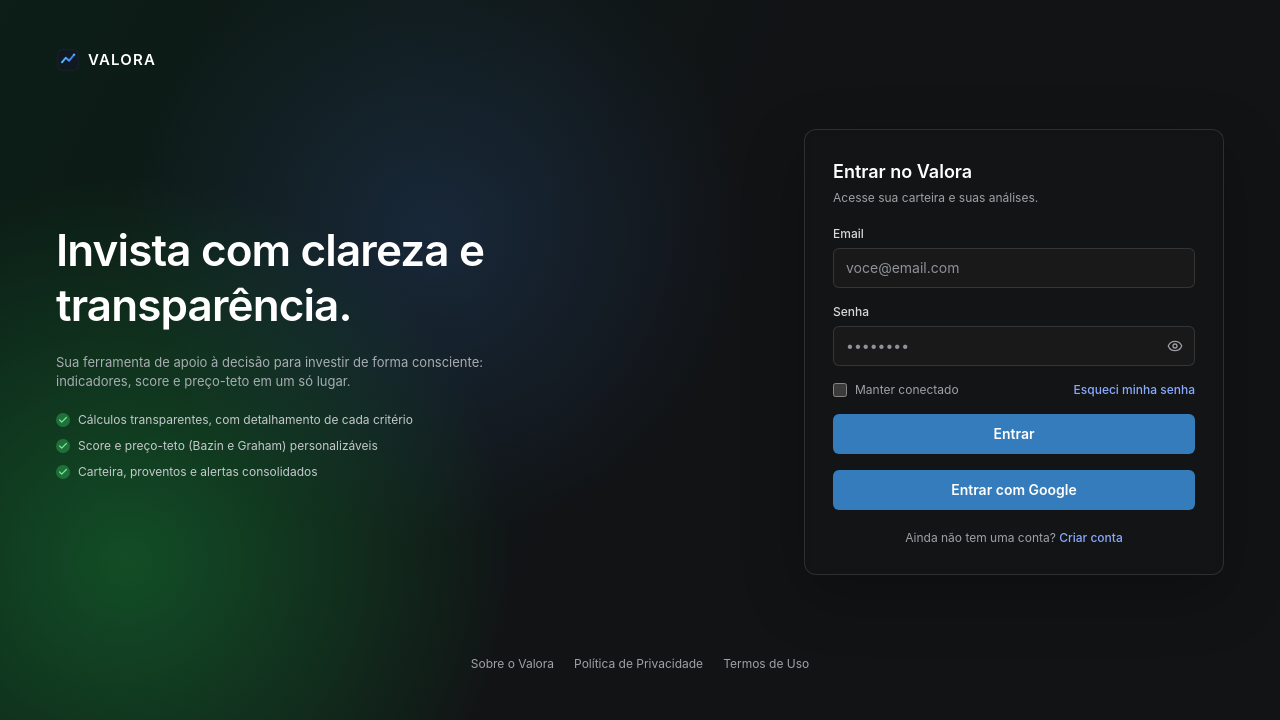
Test: oferece reenvio ao bloquear email não confirmado sem liberar sessão
Type "pendente@valora.test" into the field labelled "Email" at point(1014, 268), box x1=833 y1=248 x2=1195 y2=288
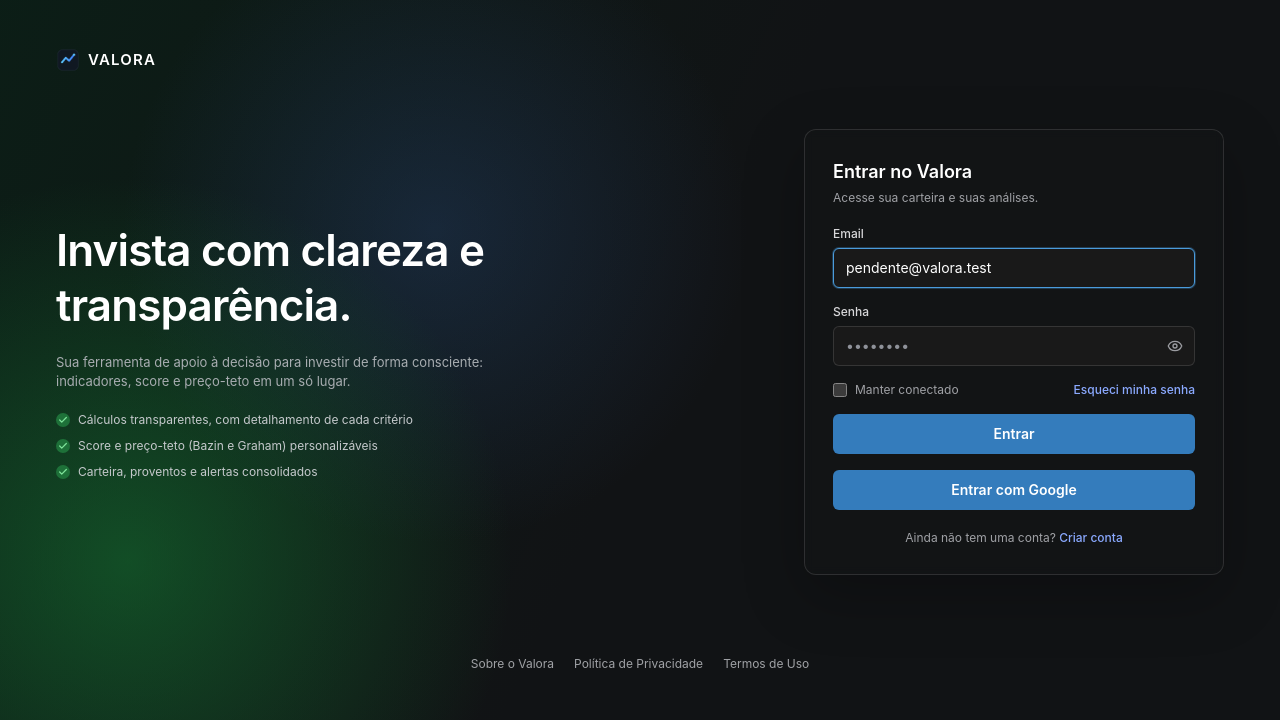
Type "MinhaSenha!82" into the password field labelled "Senha" at point(1014, 346), box x1=833 y1=326 x2=1195 y2=366
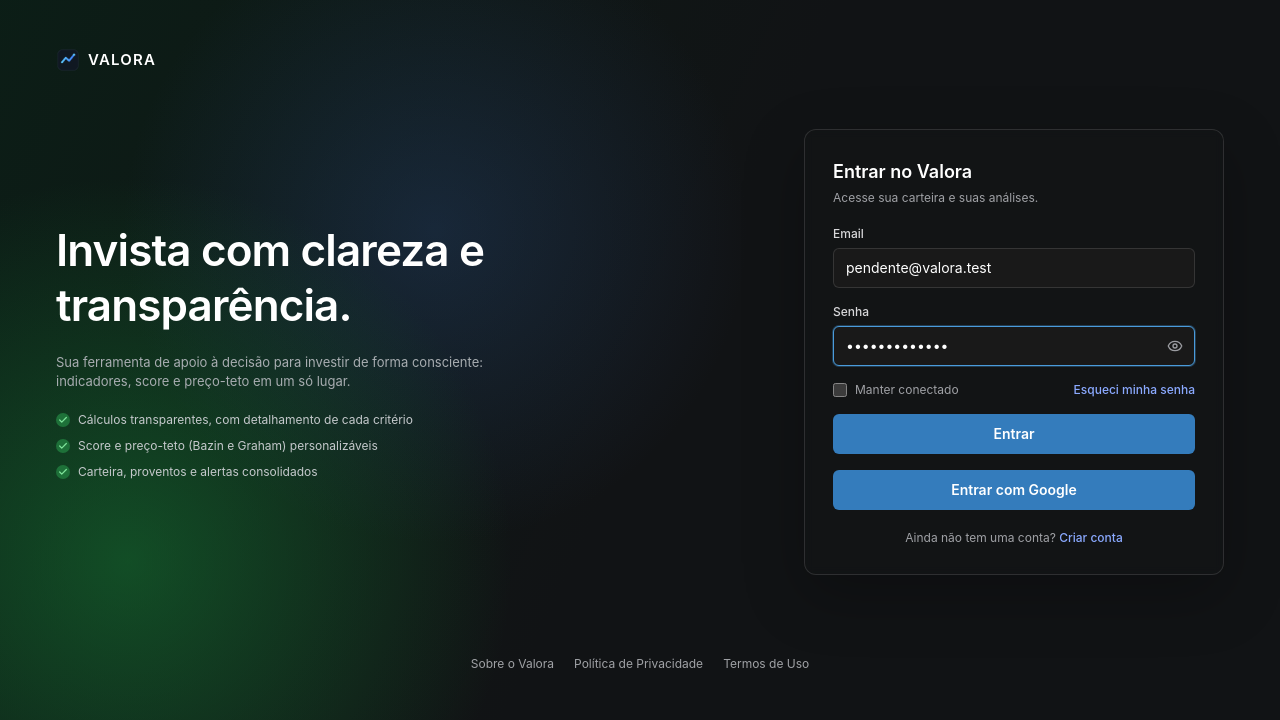
Click the button "Entrar" at point(1014, 434), box x1=833 y1=414 x2=1195 y2=454
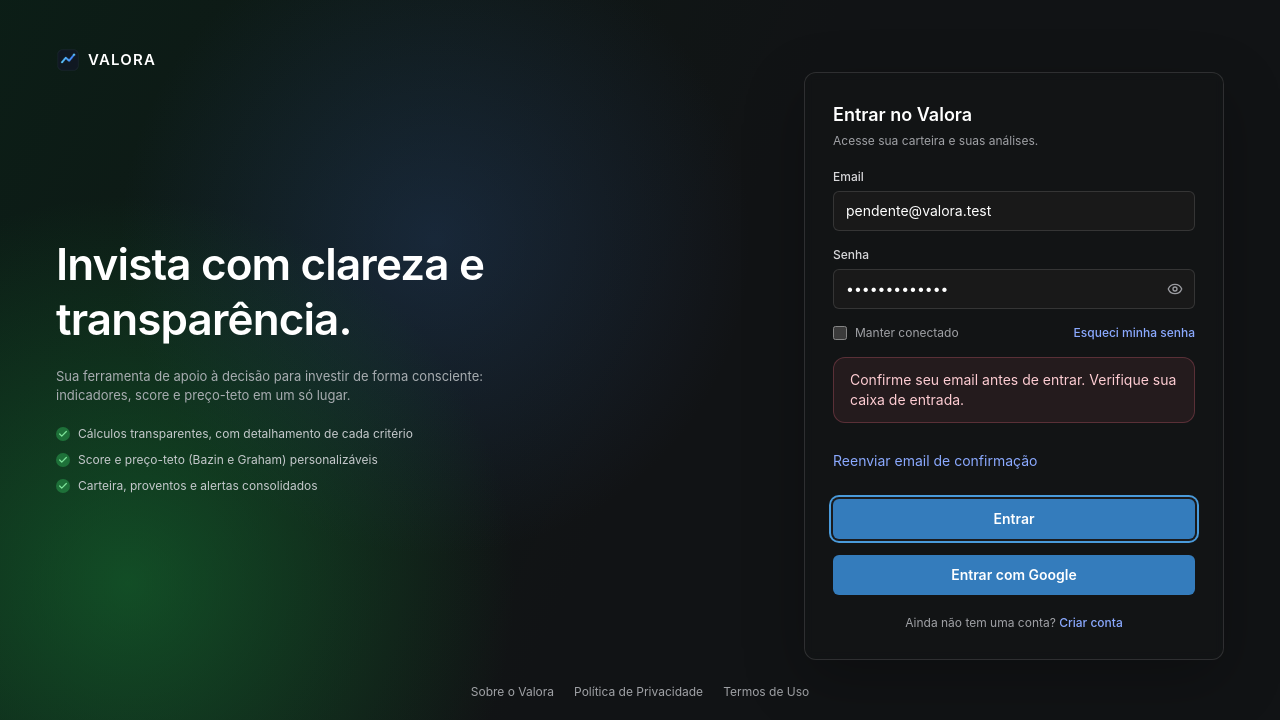
Expected: the message shows "Confirme seu email", x1=850 y1=371 x2=1176 y2=408
Expected: the button "Reenviar email de confirmação" is enabled, x1=833 y1=439 x2=1038 y2=483
